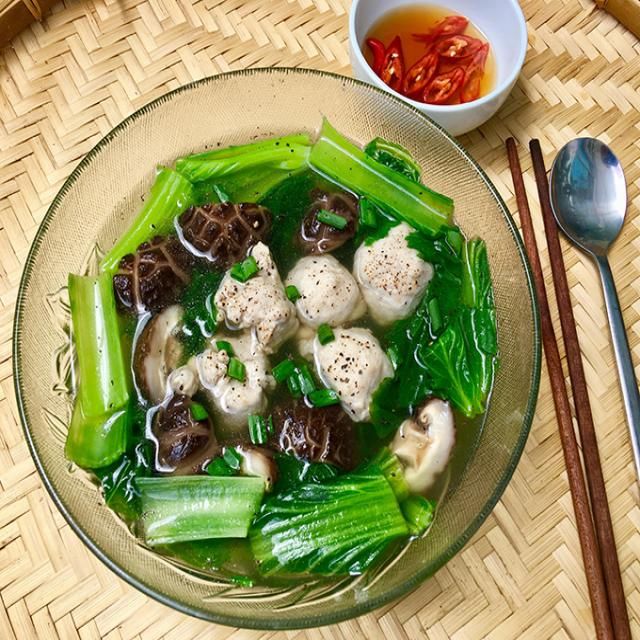canh cai: (66, 121, 498, 571)
nuoc mam: (366, 5, 456, 69), (481, 52, 495, 95), (462, 22, 483, 38)
ot: (368, 15, 488, 104)
